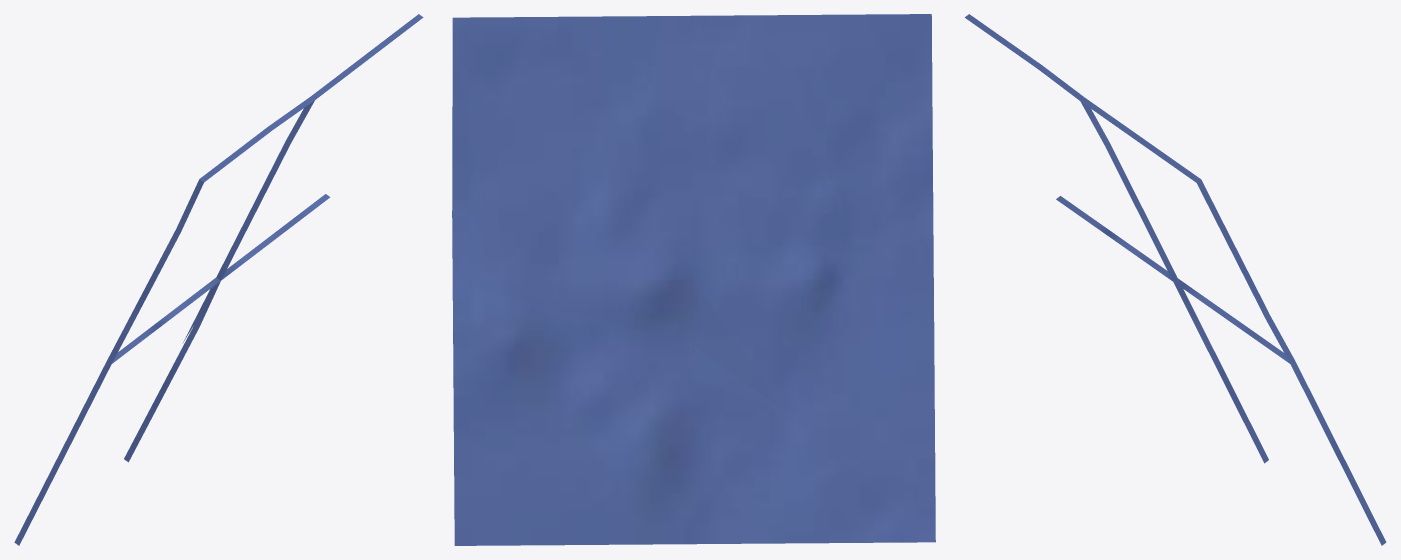
The picture shows the model from 3 angles, left to right: view 1: azimuth 30°, elevation 25°; view 2: azimuth 150°, elevation 25°; view 3: azimuth 270°, elevation 25°; orthographic projection. The views are drawn at different scales.
Size of the model in its own units: 19685 by 17837 by 16546.
1 material, 1 textured.
